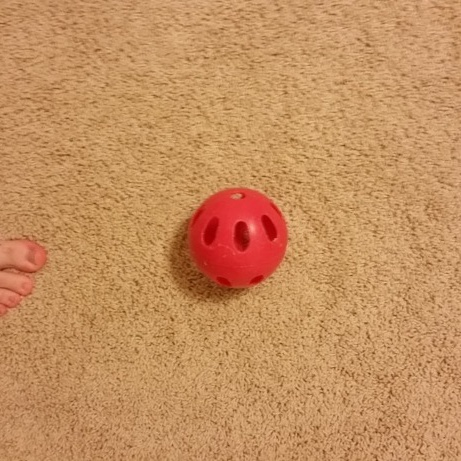ball: (181, 180, 293, 296)
